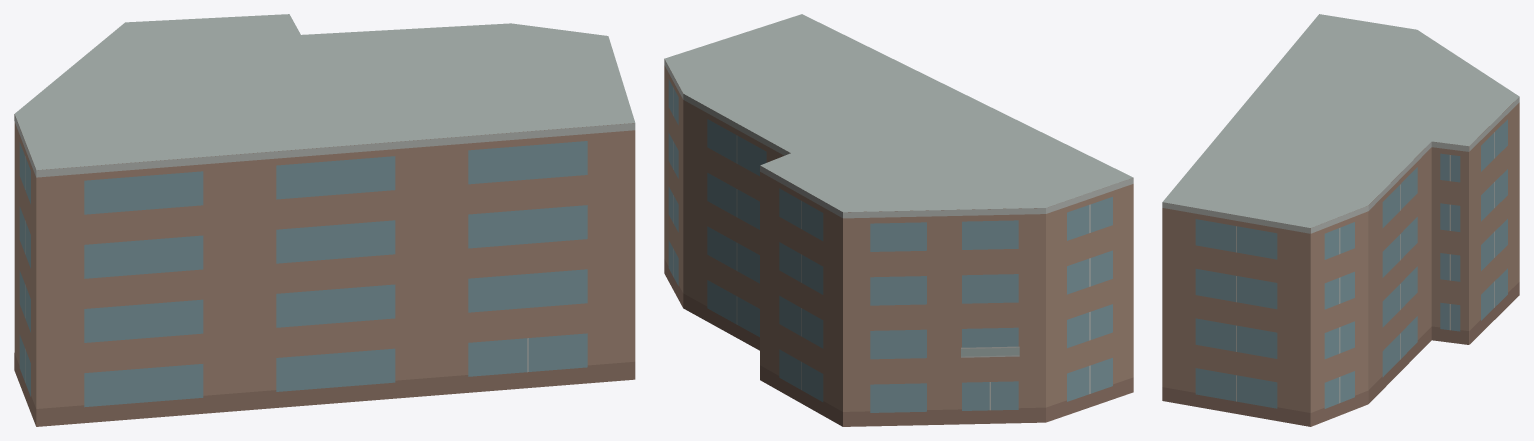
File: survey-upis-33037507.glb
3 renders of one model, left to right at view 1: azimuth 30°, elevation 25°; view 2: azimuth 150°, elevation 25°; view 3: azimuth 270°, elevation 25°, orthographic. The views are drawn at different scales.
Visible parts, largest first — view 1: survey-upis-33037507.tmp; view 2: survey-upis-33037507.tmp; view 3: survey-upis-33037507.tmp.
Boxes of the visible parts, x1,y1,x2,y2 form: survey-upis-33037507.tmp: [14, 14, 635, 426]; survey-upis-33037507.tmp: [664, 14, 1133, 426]; survey-upis-33037507.tmp: [1162, 14, 1519, 426].
Size of the model in its own units: 19.65 by 8.5 by 13.85.
